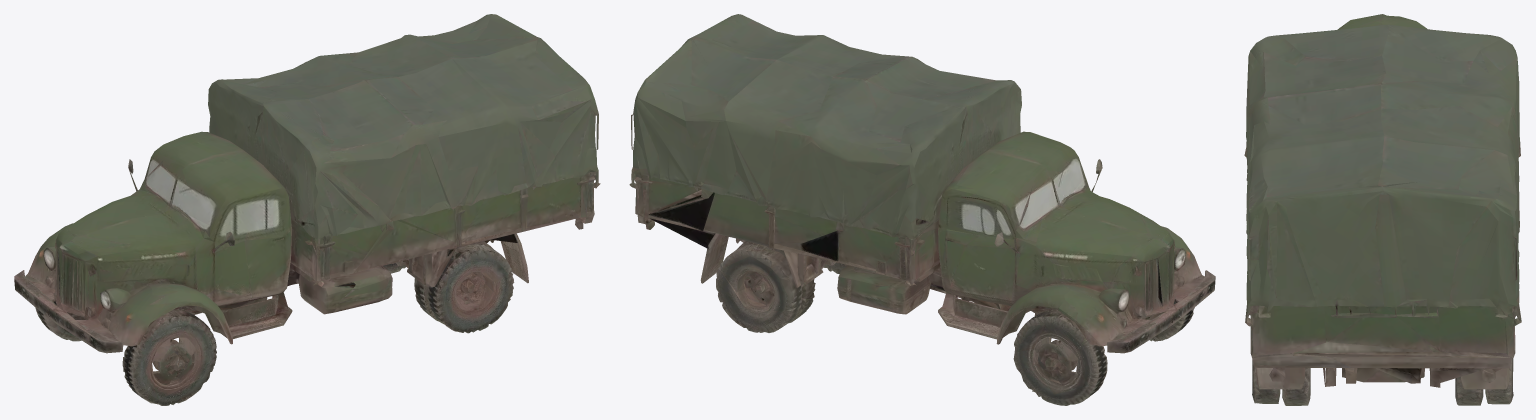
The model's file is truck_cargo.glb.
3 views of the same model, side by side, from view 1: azimuth 30°, elevation 25°; view 2: azimuth 150°, elevation 25°; view 3: azimuth 270°, elevation 25° (orthographic). The views are drawn at different scales.
Parts seen in each view (by area): view 1: Mesh_0; view 2: Mesh_0; view 3: Mesh_0.
Part boxes in pixels (x1,y1,x2,y2): Mesh_0: [14, 14, 600, 405]; Mesh_0: [629, 14, 1215, 405]; Mesh_0: [1244, 14, 1521, 405].
Bounding box in the file's own units: 1.89 × 0.8462 × 0.7494.
1 material, 1 textured.
